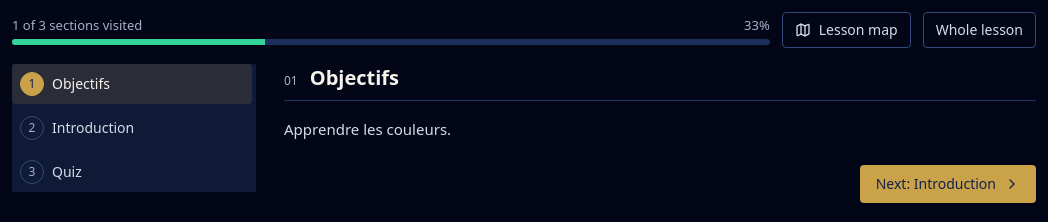
Scenario: LessonView: one section at a time › shows only the current section, and Next / Previous move between them
The image size is (1048, 222).
Expected: the text "Apprendre les couleurs." is shown, [284,119,451,139]
Expected: the text "Le rouge et le bleu." is not shown
Click the button "Next: Introduction".
click(948, 184)  # box [860,165,1036,203]
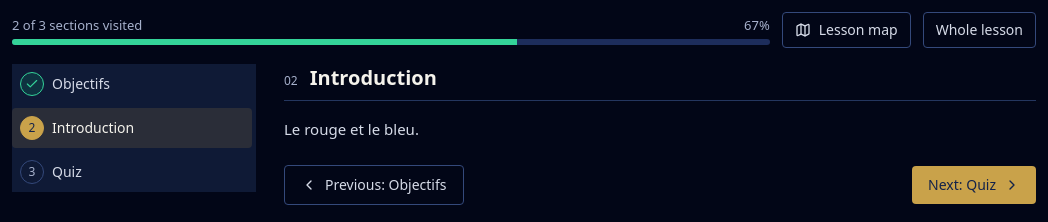
Result: the text "Apprendre les couleurs." is gone
Result: the text "Le rouge et le bleu." is shown at [284,119,419,139]
Click the button "Previous: Objectifs".
click(374, 185)  # box [284,165,464,205]
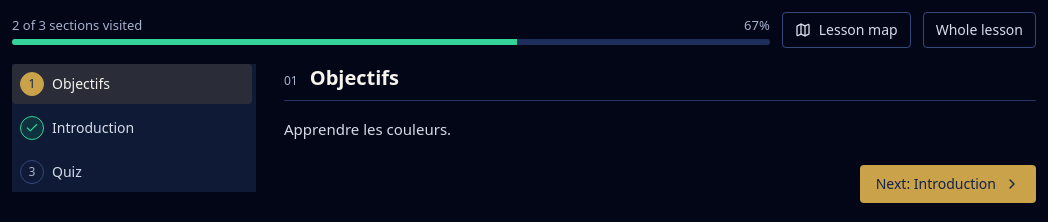
Result: the text "Apprendre les couleurs." is shown at [284,119,451,139]
